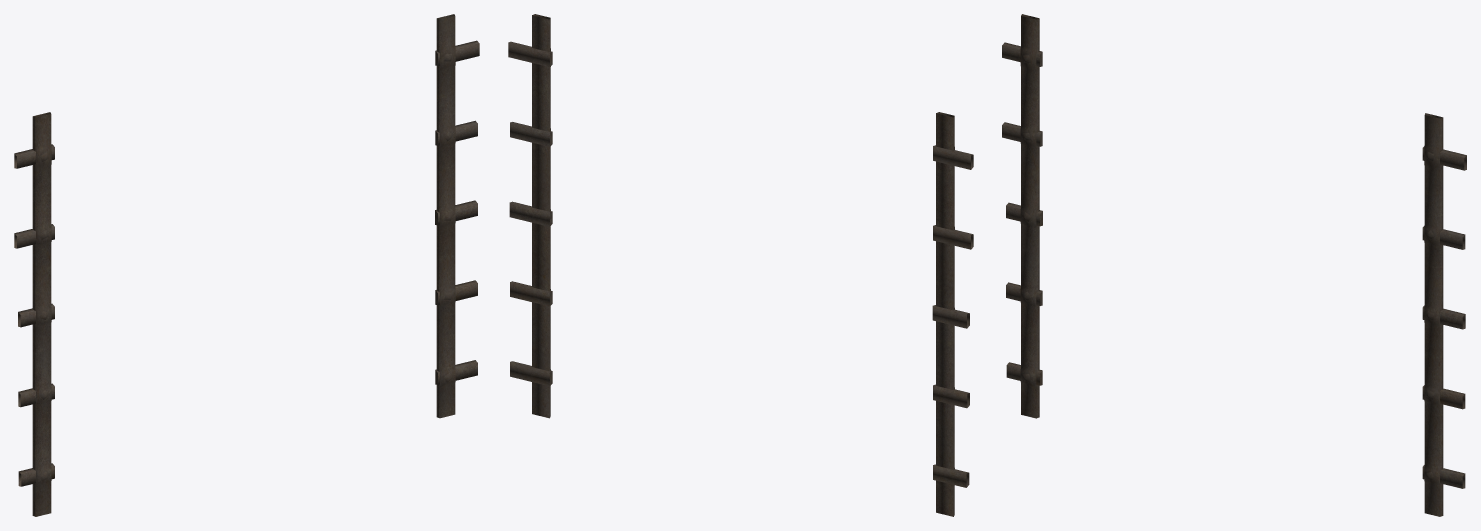
The model's file is gate_iron_surround.fbx.
3 renders of one model, left to right at view 1: azimuth 30°, elevation 25°; view 2: azimuth 150°, elevation 25°; view 3: azimuth 330°, elevation 25°, orthographic.
Visible parts, largest first — view 1: gate_iron_surround; view 2: gate_iron_surround; view 3: gate_iron_surround.
Part boxes in pixels (x1,y1,x2,y2): gate_iron_surround: (14,14,479,516); gate_iron_surround: (508,14,973,516); gate_iron_surround: (1002,14,1466,516).
Bounding box in the file's own units: 121 × 100 × 2.61.
